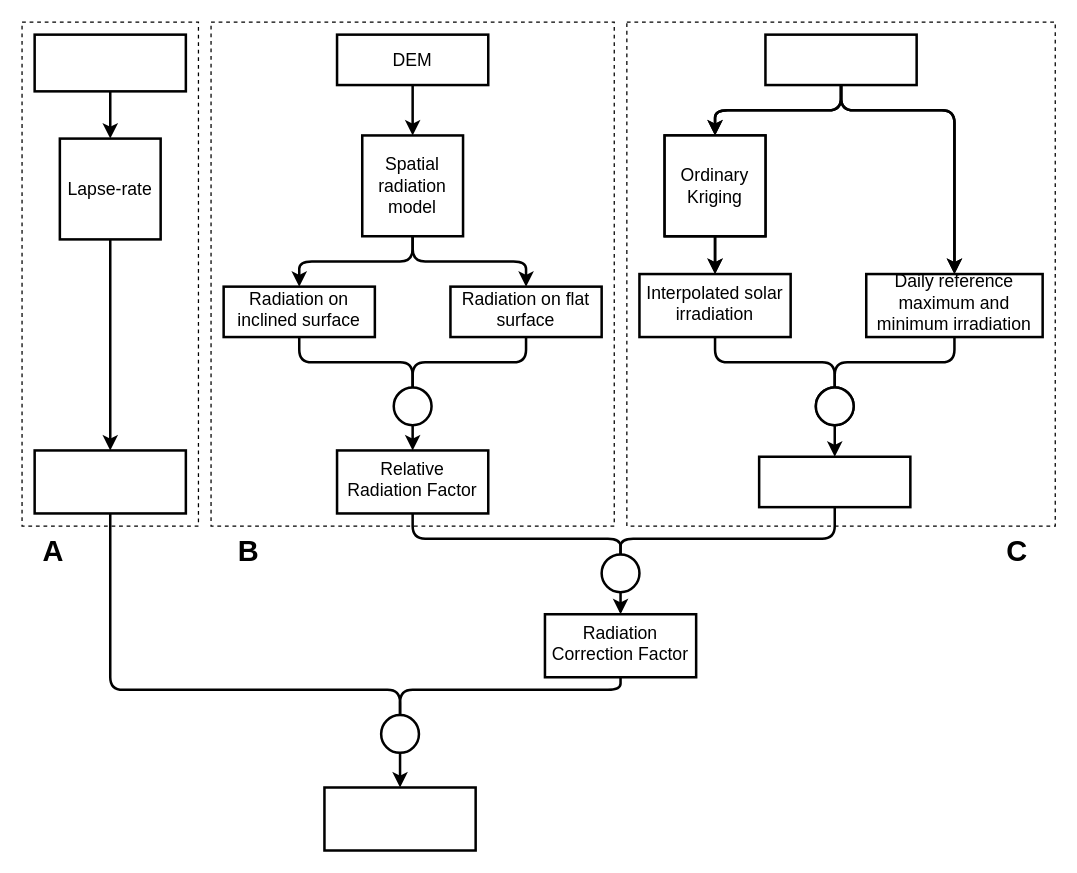
Image size: 1077x873. Some labels were removed from this diagram. Here are the shapes that lost their labels. From the top down, the centre of each, then its label:
At (x=109, y=62): "Measured air temperature".
At (x=840, y=59): "Measured solar irradiation".
At (x=109, y=481): "Air temperature on flat surface".
At (x=834, y=481): "Cloud Index".
At (x=399, y=818): "Topoclimate air temperature".
